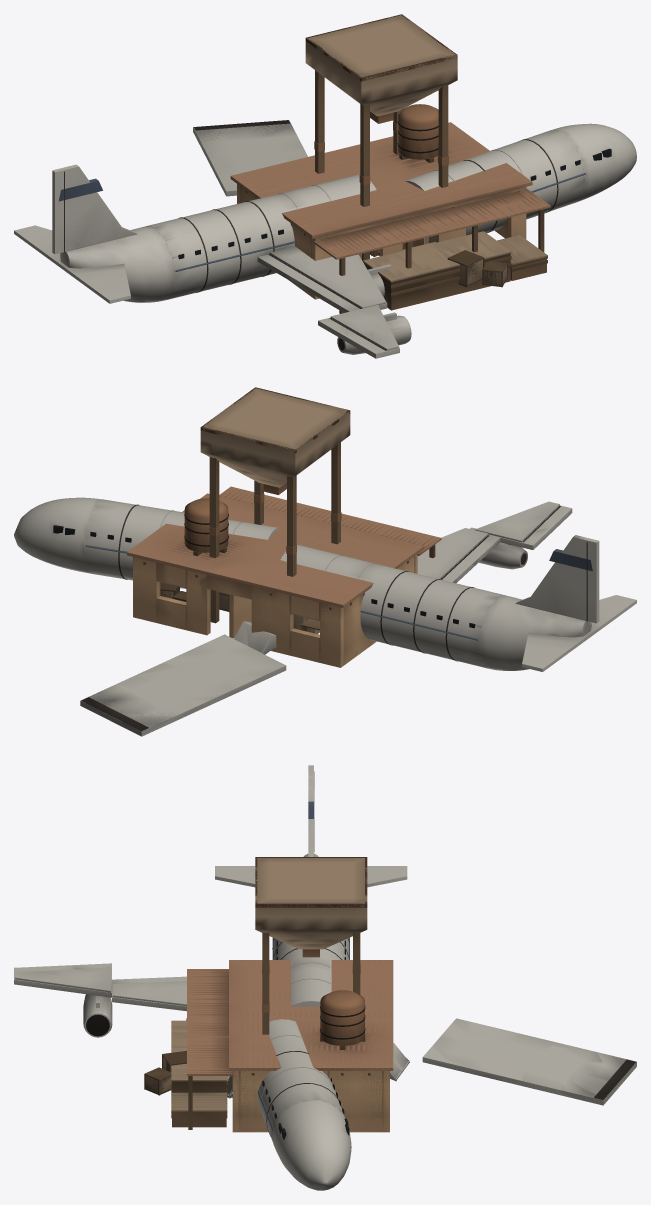
The model's file is dustlands.glb.
3 renders of one model, top to bottom at view 1: azimuth 30°, elevation 25°; view 2: azimuth 150°, elevation 25°; view 3: azimuth 270°, elevation 25°, orthographic. The views are drawn at different scales.
Visible parts, largest first — view 1: dl-jet, dl-office-lod, dl-hopper, dl-office, dl-jet-lod, dl-hopper-lod; view 2: dl-jet, dl-office-lod, dl-office, dl-hopper, dl-jet-lod, dl-hopper-lod; view 3: dl-jet, dl-office-lod, dl-hopper, dl-office, dl-jet-lod, dl-hopper-lod.
Boxes of the visible parts, <box> form: dl-jet: <box>14,120,636,357</box>; dl-office-lod: <box>230,108,550,313</box>; dl-hopper: <box>305,14,547,310</box>; dl-office: <box>231,104,550,313</box>; dl-jet-lod: <box>14,120,581,358</box>; dl-hopper-lod: <box>315,73,546,282</box>; dl-jet: <box>14,497,635,735</box>; dl-office-lod: <box>127,486,441,667</box>; dl-office: <box>127,487,441,666</box>; dl-hopper: <box>200,387,350,622</box>; dl-jet-lod: <box>80,505,636,736</box>; dl-hopper-lod: <box>209,442,340,623</box>; dl-jet: <box>14,765,635,1190</box>; dl-office-lod: <box>187,960,393,1132</box>; dl-hopper: <box>171,857,367,1127</box>; dl-office: <box>187,960,393,1131</box>; dl-jet-lod: <box>14,765,636,1184</box>; dl-hopper-lod: <box>171,933,360,1111</box>.
Bounding box in the file's own units: 38.89 × 12.62 × 35.63.
